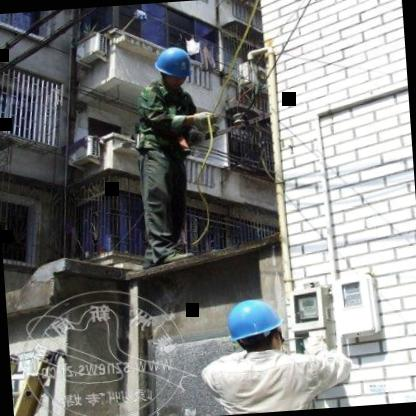helmet: (220, 294, 292, 364), (151, 44, 194, 90)
